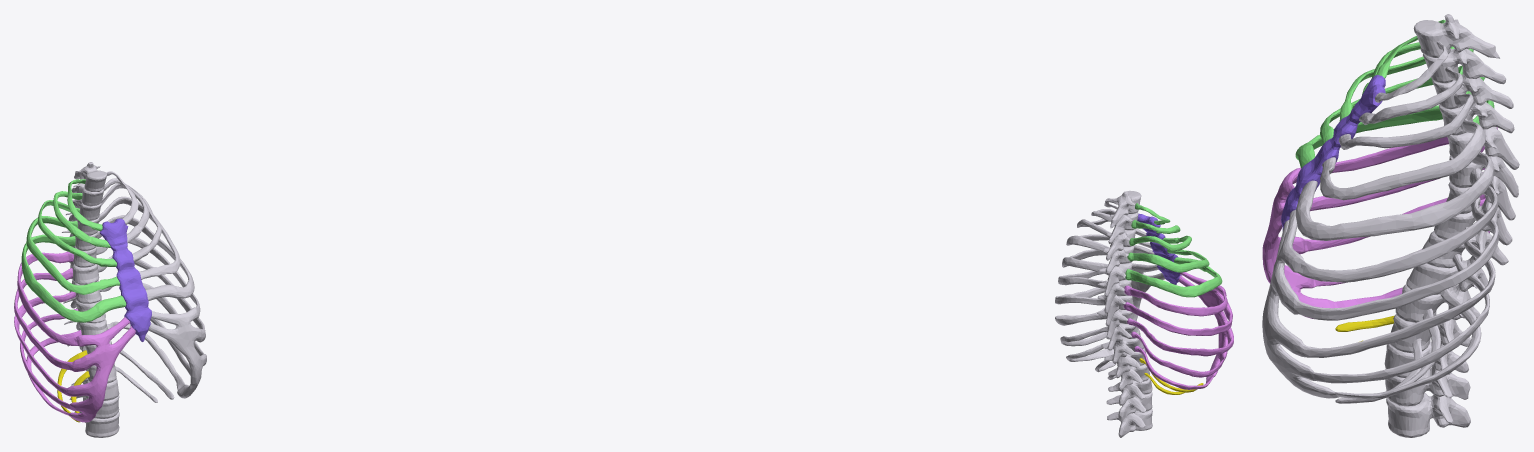
Rendered from Tdada.gltf.
The picture shows the model from 3 angles, left to right: view 1: azimuth 30°, elevation 25°; view 2: azimuth 150°, elevation 25°; view 3: azimuth 270°, elevation 25°; orthographic projection. The views are drawn at different scales.
Parts seen in each view (by area): view 1: male_skeleton_first_anatomy_study017, male_skeleton_first_anatomy_study018, male_skeleton_first_anatomy_study056, male_skeleton_first_anatomy_study127, male_skeleton_first_anatomy_study126, male_skeleton_first_anatomy_study133, male_skeleton_first_anatomy_study132, male_skeleton_first_anatomy_study125, male_skeleton_first_anatomy_study124, male_skeleton_first_anatomy_study011, male_skeleton_first_anatomy_study049, male_skeleton_first_anatomy_study131; view 2: male_skeleton_first_anatomy_study017, male_skeleton_first_anatomy_study018, male_skeleton_first_anatomy_study127, male_skeleton_first_anatomy_study126, male_skeleton_first_anatomy_study056, male_skeleton_first_anatomy_study133, male_skeleton_first_anatomy_study011, male_skeleton_first_anatomy_study045, male_skeleton_first_anatomy_study049, male_skeleton_first_anatomy_study051, male_skeleton_first_anatomy_study132, male_skeleton_first_anatomy_study125; view 3: male_skeleton_first_anatomy_study018, male_skeleton_first_anatomy_study017, male_skeleton_first_anatomy_study133, male_skeleton_first_anatomy_study132, male_skeleton_first_anatomy_study056, male_skeleton_first_anatomy_study011, male_skeleton_first_anatomy_study049, male_skeleton_first_anatomy_study131, male_skeleton_first_anatomy_study045, male_skeleton_first_anatomy_study038, male_skeleton_first_anatomy_study127, male_skeleton_first_anatomy_study130 (+19 smaller).
Part boxes in pixels (box(x1,y1,x2,y2)): male_skeleton_first_anatomy_study017: box(14, 251, 135, 422); male_skeleton_first_anatomy_study018: box(96, 233, 206, 398); male_skeleton_first_anatomy_study056: box(99, 218, 151, 341); male_skeleton_first_anatomy_study127: box(21, 234, 126, 322); male_skeleton_first_anatomy_study126: box(26, 216, 120, 294); male_skeleton_first_anatomy_study133: box(97, 215, 194, 300); male_skeleton_first_anatomy_study132: box(98, 196, 180, 279); male_skeleton_first_anatomy_study125: box(37, 200, 116, 266); male_skeleton_first_anatomy_study124: box(53, 191, 110, 247); male_skeleton_first_anatomy_study011: box(74, 411, 119, 437); male_skeleton_first_anatomy_study049: box(74, 162, 107, 191); male_skeleton_first_anatomy_study131: box(101, 183, 161, 261); male_skeleton_first_anatomy_study017: box(1123, 272, 1233, 389); male_skeleton_first_anatomy_study018: box(1055, 263, 1165, 361); male_skeleton_first_anatomy_study127: box(1125, 257, 1222, 297); male_skeleton_first_anatomy_study126: box(1127, 249, 1209, 272); male_skeleton_first_anatomy_study056: box(1137, 213, 1181, 284); male_skeleton_first_anatomy_study133: box(1062, 245, 1154, 275); male_skeleton_first_anatomy_study011: box(1107, 409, 1152, 437); male_skeleton_first_anatomy_study045: box(1106, 392, 1152, 421); male_skeleton_first_anatomy_study049: box(1110, 190, 1141, 228); male_skeleton_first_anatomy_study051: box(1108, 378, 1152, 405); male_skeleton_first_anatomy_study132: box(1066, 234, 1151, 253); male_skeleton_first_anatomy_study125: box(1129, 235, 1191, 251); male_skeleton_first_anatomy_study018: box(1262, 168, 1498, 399); male_skeleton_first_anatomy_study017: box(1262, 127, 1497, 319); male_skeleton_first_anatomy_study133: box(1295, 143, 1494, 240); male_skeleton_first_anatomy_study132: box(1320, 118, 1486, 200); male_skeleton_first_anatomy_study056: box(1281, 75, 1385, 230); male_skeleton_first_anatomy_study011: box(1386, 393, 1470, 437); male_skeleton_first_anatomy_study049: box(1413, 14, 1499, 58); male_skeleton_first_anatomy_study131: box(1338, 93, 1473, 149); male_skeleton_first_anatomy_study045: box(1385, 366, 1470, 406); male_skeleton_first_anatomy_study038: box(1423, 48, 1506, 84); male_skeleton_first_anatomy_study127: box(1295, 100, 1494, 168); male_skeleton_first_anatomy_study130: box(1359, 66, 1463, 124).
Bounding box in the file's own units: 9.75 × 4.86 × 2.3.
